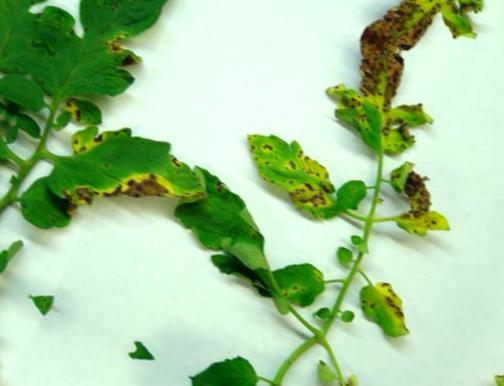Tomato Septoria leaf spot: (31, 86, 225, 271), (309, 27, 453, 161), (224, 109, 363, 226), (340, 269, 434, 360), (250, 241, 333, 326), (391, 189, 463, 254)
